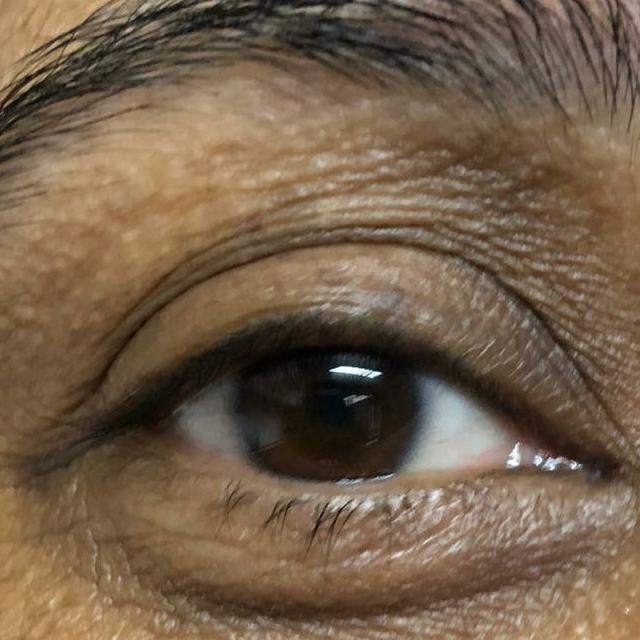eye: (153, 340, 526, 490)
iris: (238, 346, 422, 483)
